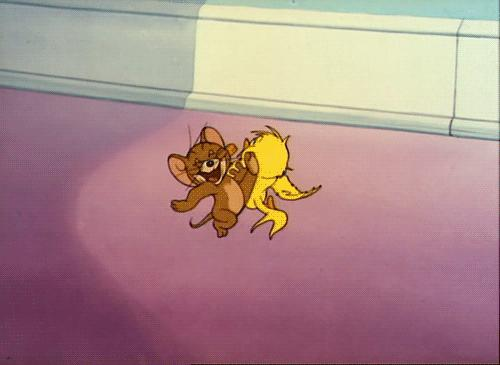jerry: (170, 122, 260, 239)
